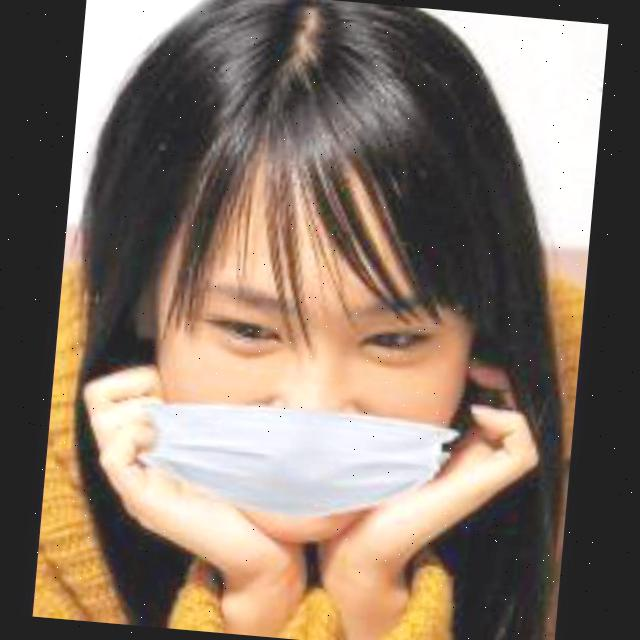suspicion: (132, 112, 522, 529)
